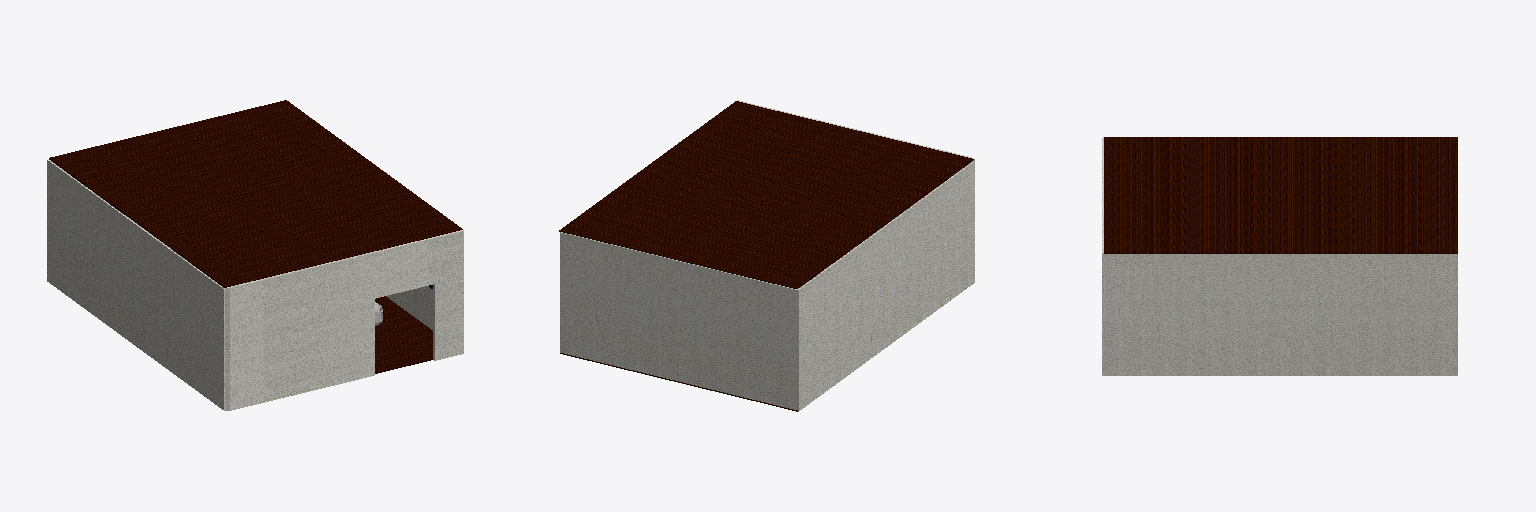
3 views of the same model, side by side, from view 1: azimuth 30°, elevation 25°; view 2: azimuth 150°, elevation 25°; view 3: azimuth 270°, elevation 25° (orthographic).
Parts seen in each view (by area): view 1: Box022, Plane008, Box001, Box002, Box004; view 2: Box022, Box003, Box001; view 3: Box004, Box022.
Part boxes in pixels (bbox=[...]): Box022: bbox=[49, 100, 462, 287]; Plane008: bbox=[225, 230, 463, 410]; Box001: bbox=[47, 160, 224, 410]; Box002: bbox=[173, 250, 432, 373]; Box004: bbox=[386, 286, 432, 329]; Box022: bbox=[559, 101, 973, 288]; Box003: bbox=[561, 232, 797, 409]; Box001: bbox=[797, 161, 974, 411]; Box004: bbox=[1104, 254, 1457, 375]; Box022: bbox=[1104, 137, 1457, 253].
Bounding box in the file's own units: 110 × 54.04 × 142.
18 materials, 18 textured.